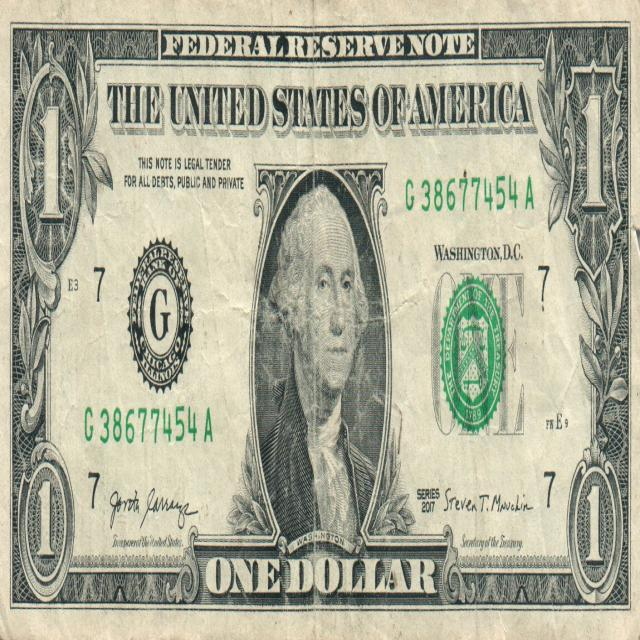SerialNumber: (85, 406, 212, 443), (405, 176, 520, 212)
